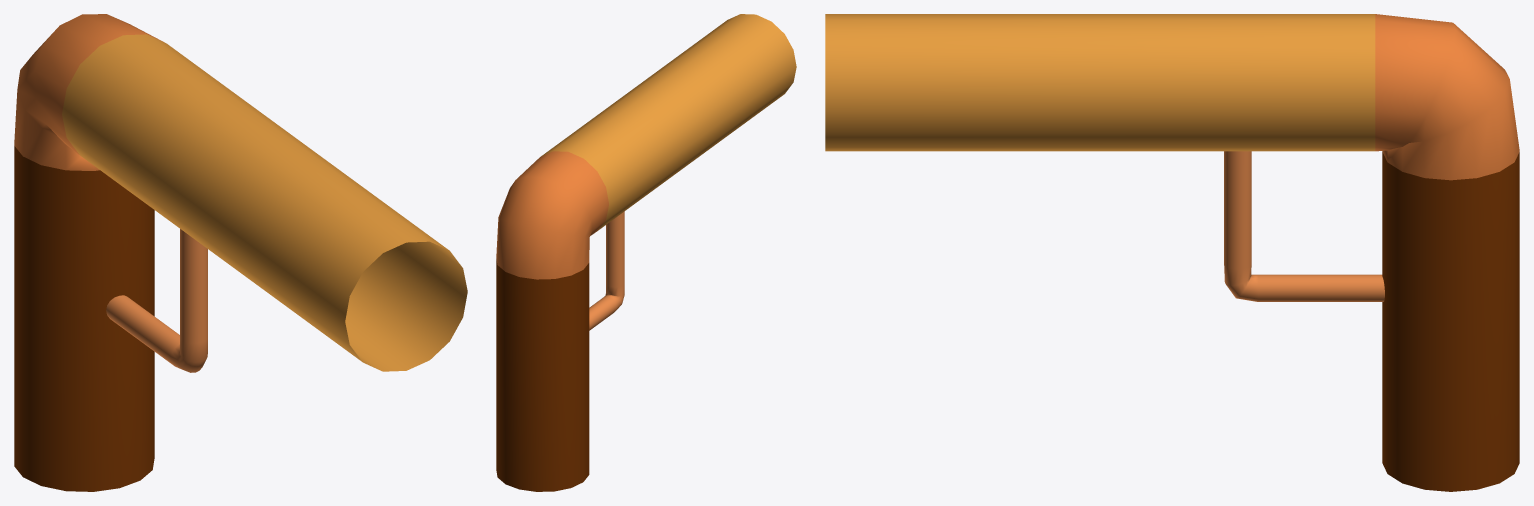
The model's file is SnowGun.glb.
3 views of the same model, side by side, from view 1: azimuth 30°, elevation 25°; view 2: azimuth 150°, elevation 25°; view 3: azimuth 270°, elevation 25° (orthographic). The views are drawn at different scales.
Visible parts, largest first — view 1: SnowGun; view 2: SnowGun; view 3: SnowGun.
Boxes of the visible parts, x1,y1,x2,y2 form: SnowGun: (14,14,467,491); SnowGun: (496,14,796,491); SnowGun: (825,14,1519,491).
Size of the model in its own units: 2 by 7.1 by 10.1.
